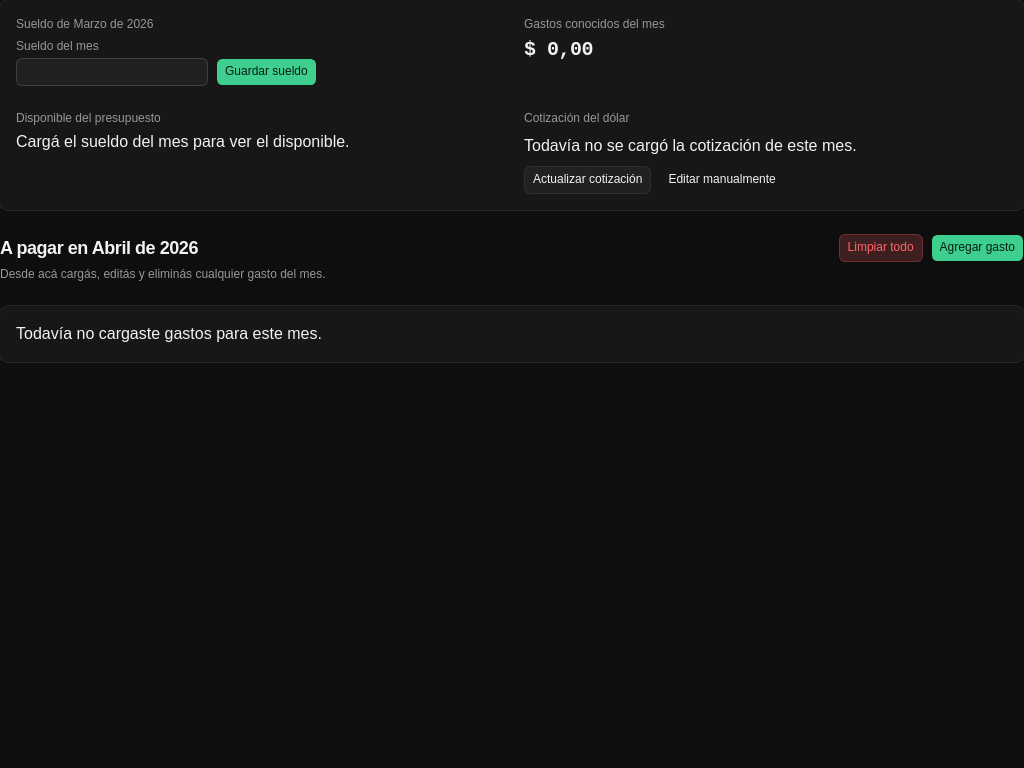
Test: recurrentes desde Presupuesto › no guarda un recurrente sin importe ni con una cantidad de meses inválida
The width and height of the screenshot is (1024, 768).
Click the button "Agregar gasto". click: x=977, y=248
box: [931,234,1023,262]
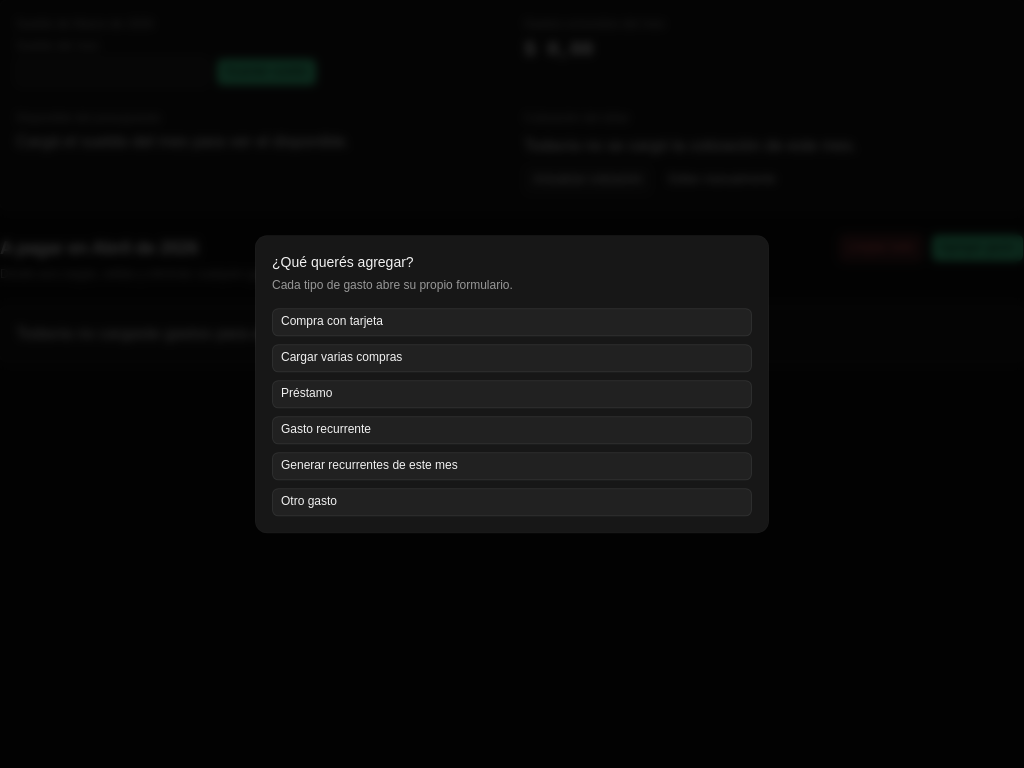
Click the button "Gasto recurrente". click: x=326, y=429
box: [272,416,752,444]
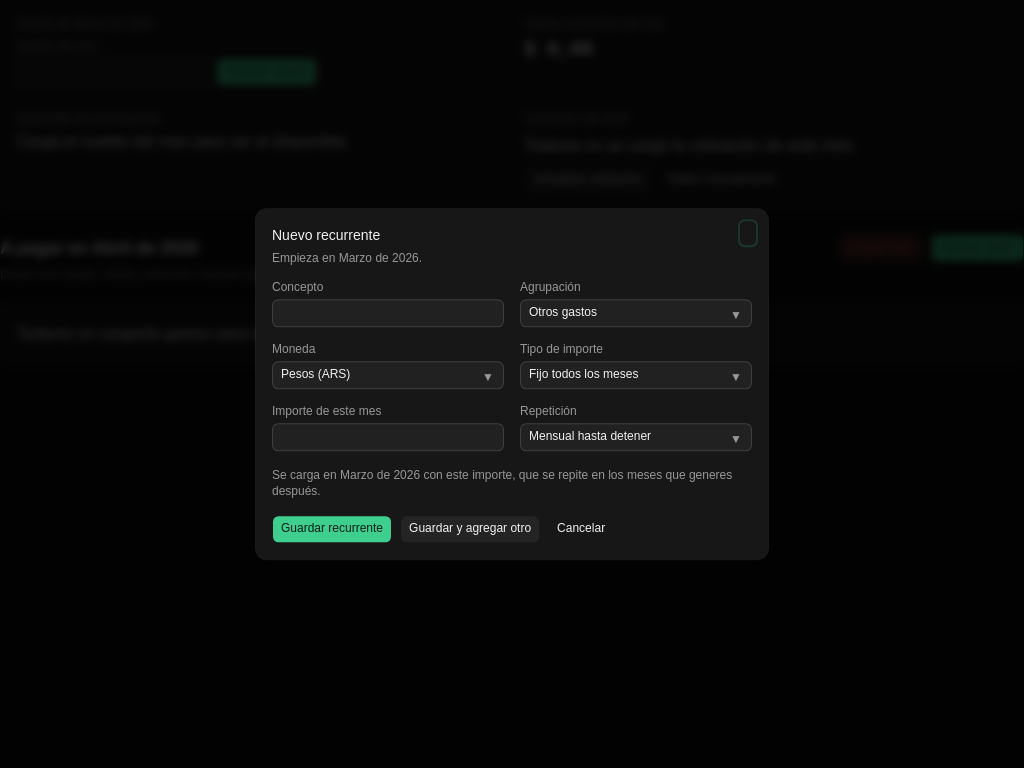
Check: the field labelled "Concepto" is shown
Type "Internet" into the field labelled "Concepto". click: x=388, y=313
box: [272,299,504,327]
Click the dropdown named "Repetición". click: x=636, y=437
box: [520,423,752,451]
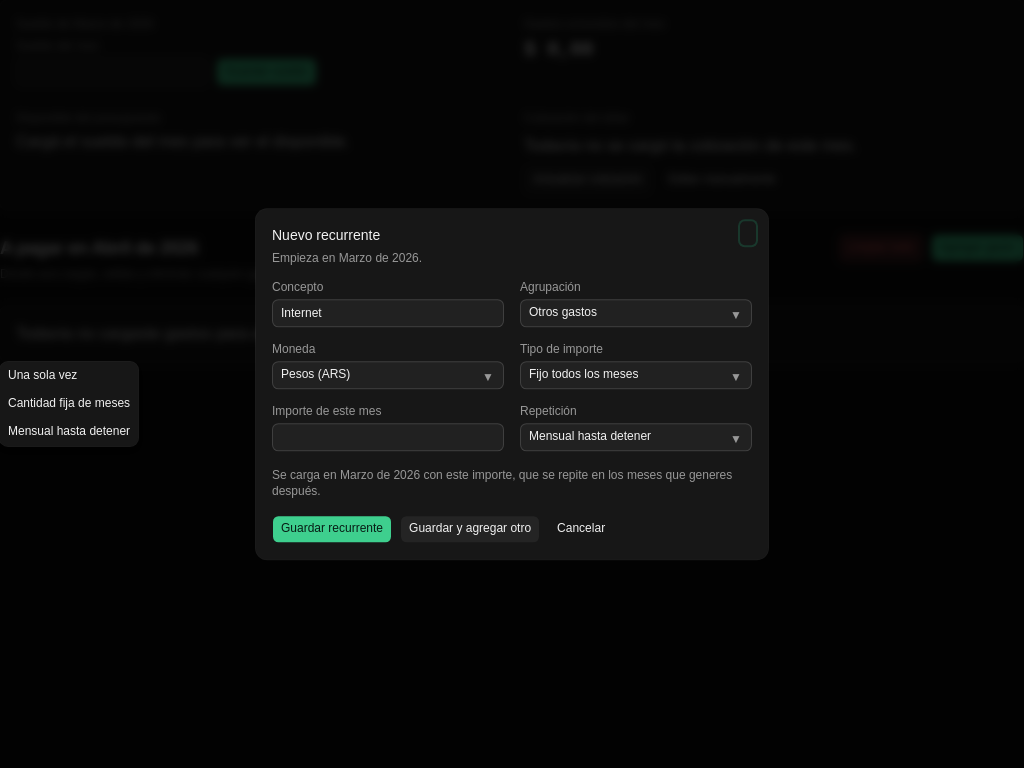
Click the option "Cantidad fija de meses". click: x=69, y=403
box: [8,396,130,410]
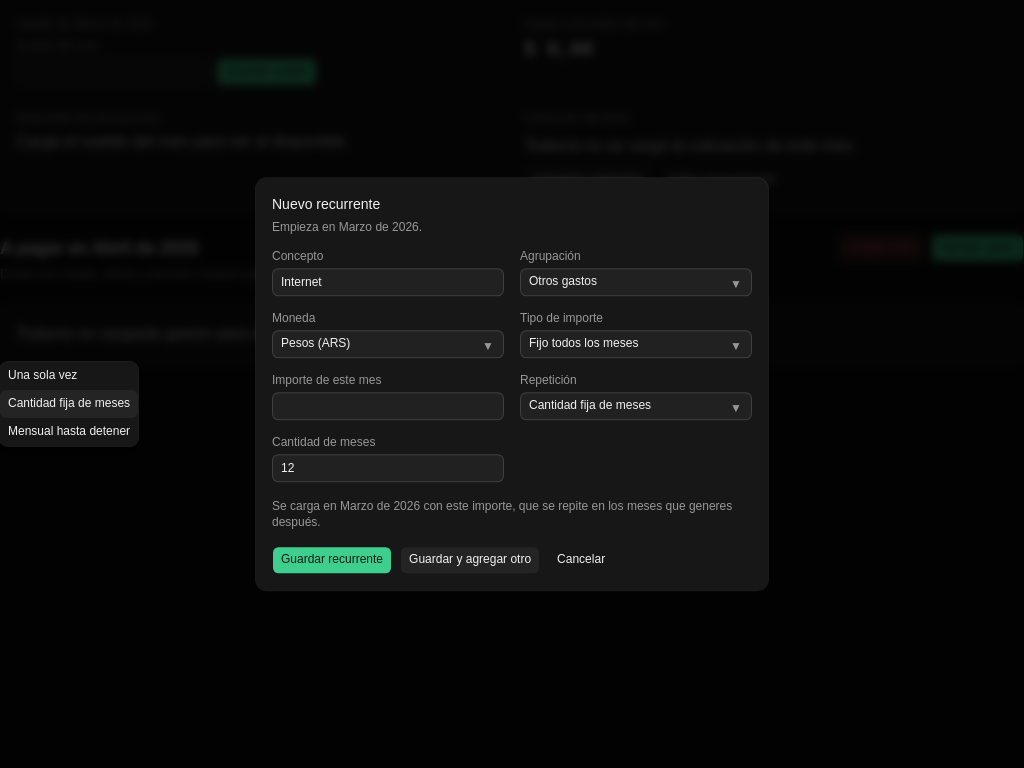
Replace the text in the number field labelled "Cantidad de meses" with "0". click: x=388, y=468
box: [272,454,504,482]
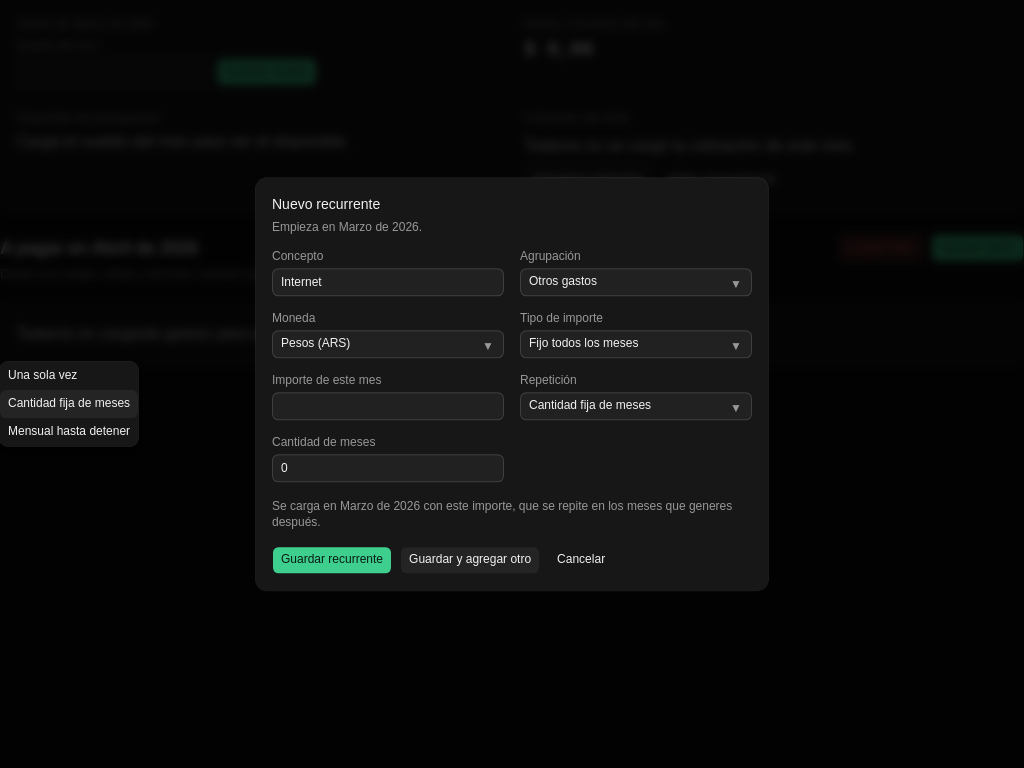
Click the button "Guardar recurrente". click: x=332, y=560
box: [272,546,392,574]
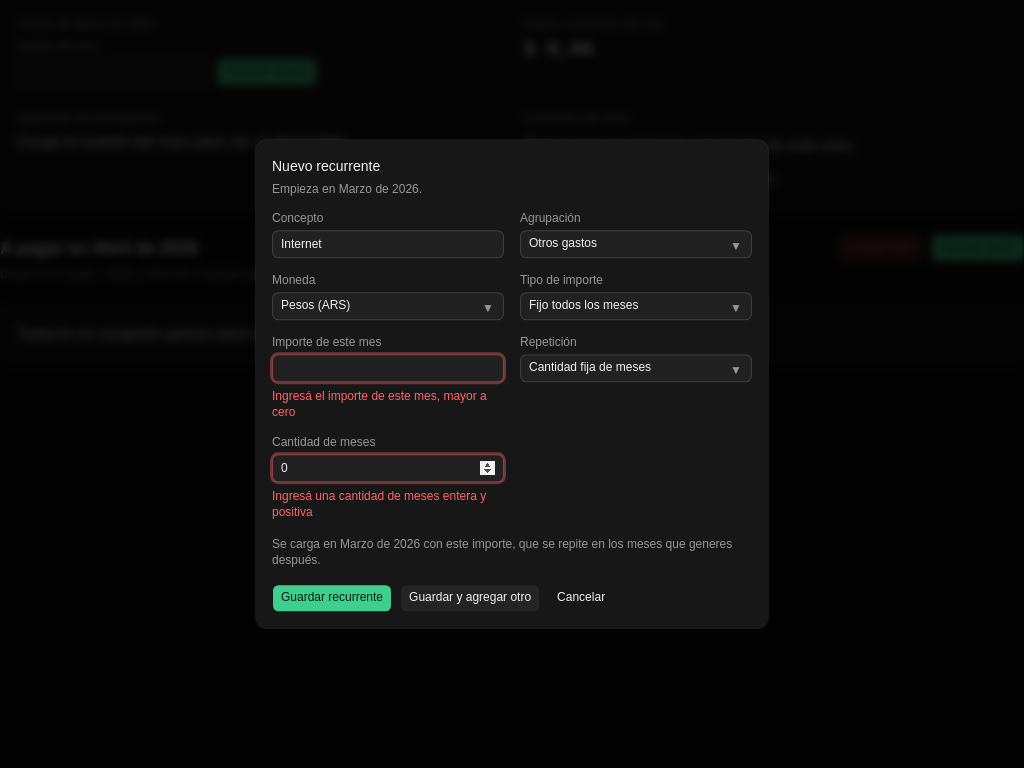
Check: the text "Ingresá el importe de este mes, mayor a cero" is shown, box [272,388,504,420]
Check: the text "Ingresá una cantidad de meses entera y positiva" is shown, box [272,488,504,520]
